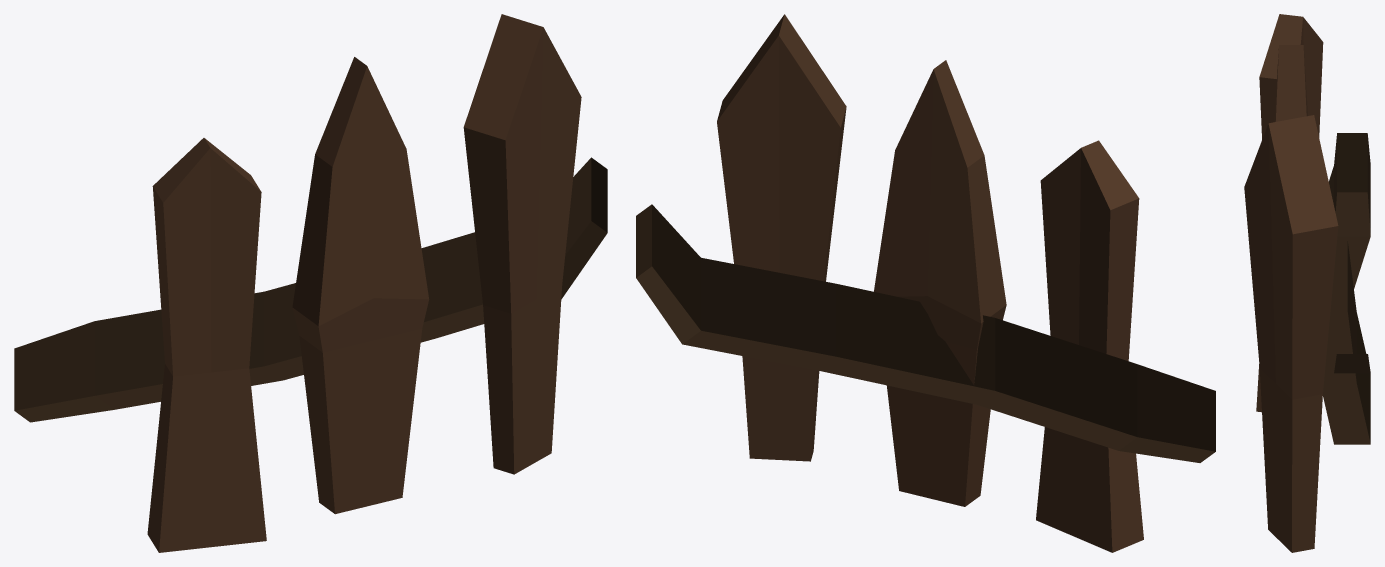
The model's file is Cerca.fbx.
3 renders of one model, left to right at view 1: azimuth 30°, elevation 25°; view 2: azimuth 150°, elevation 25°; view 3: azimuth 270°, elevation 25°, orthographic. The views are drawn at different scales.
Visible parts, largest first — view 1: Cube.002; view 2: Cube.002; view 3: Cube.002.
Part boxes in pixels (x1,y1,x2,y2): Cube.002: [14, 14, 607, 552]; Cube.002: [636, 14, 1215, 552]; Cube.002: [1244, 14, 1370, 552].
Size of the model in its own units: 625 by 455 by 124.
